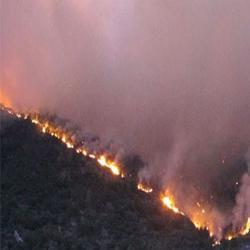fire: (99, 152, 123, 176), (161, 191, 176, 208), (37, 125, 57, 134)
